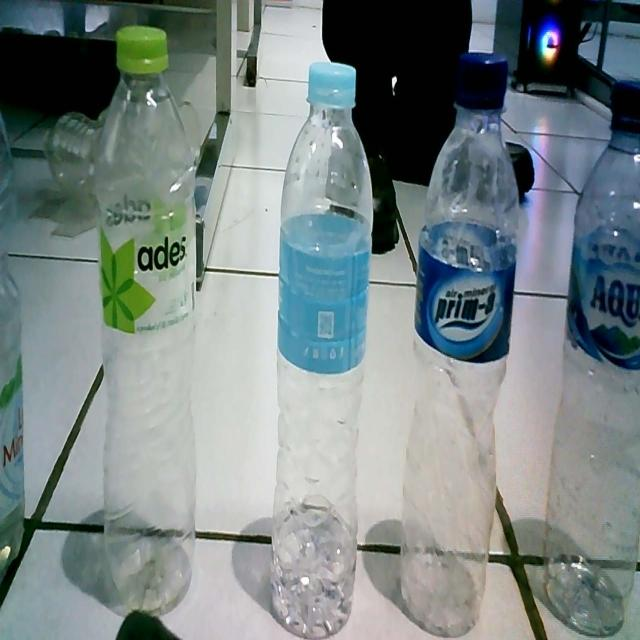botol: (405, 44, 523, 640), (96, 25, 200, 619), (272, 62, 375, 640), (542, 78, 640, 640)
